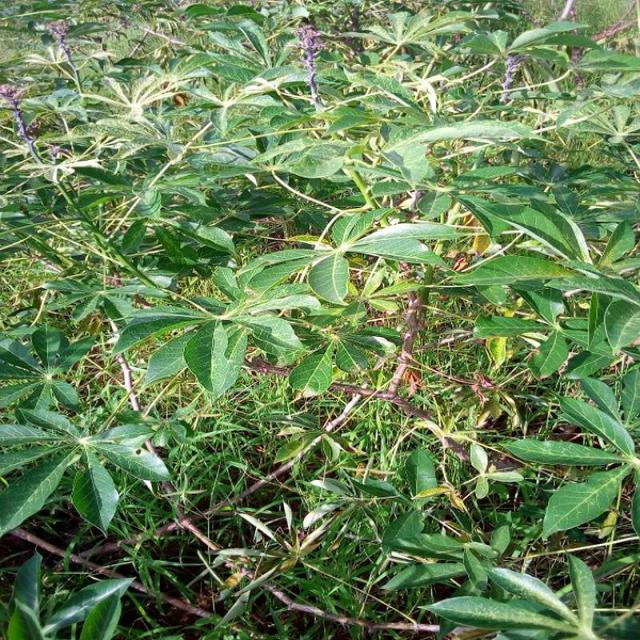cassava leaf: (2, 1, 640, 637), (183, 316, 249, 400)
